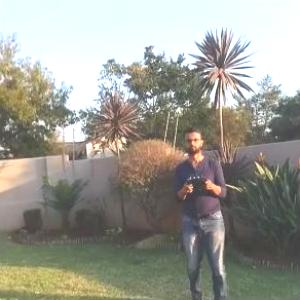follow: (172, 122, 233, 299)
